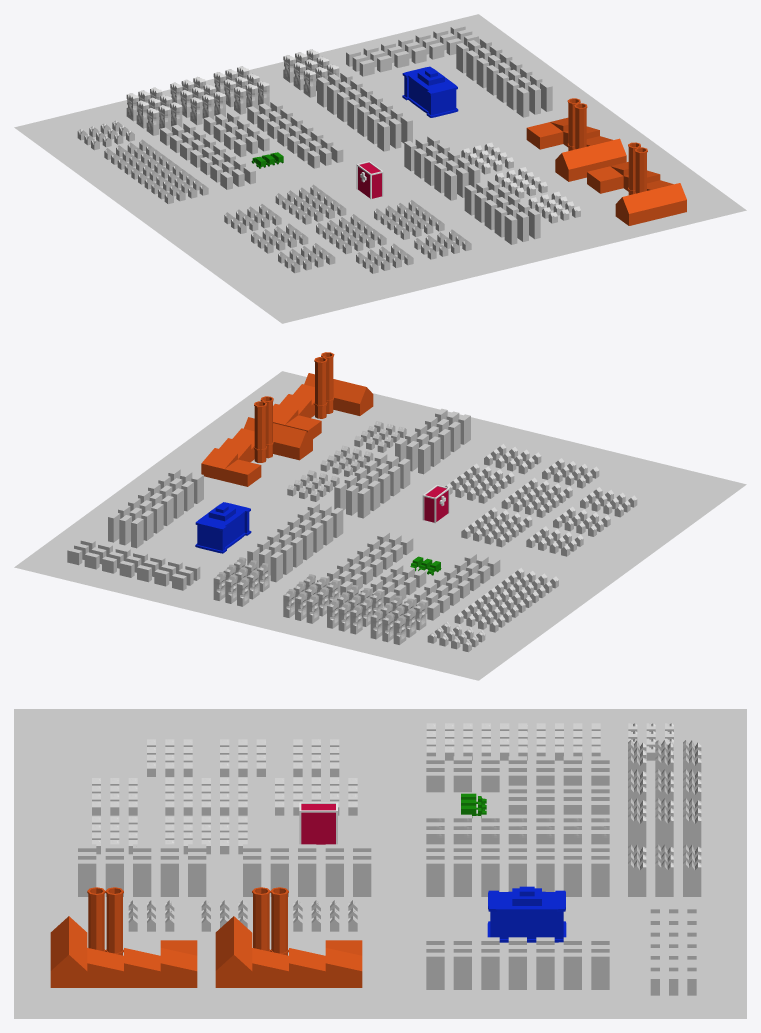
File: Diplom.fbx
3 views of the same model, one above another, from view 1: azimuth 30°, elevation 25°; view 2: azimuth 150°, elevation 25°; view 3: azimuth 270°, elevation 25° (orthographic). The views are drawn at different scales.
Parts seen in each view (by area): view 1: Plane, 9 Story Bulding Dead, Factory OK.001, 9 Story Bulding OK.003, Factory OK, 9 Story Bulding OK, 5 Story Bulding OK.003, 9 Story Bulding OK.002, 5 Story Bulding OK.002, 5 Story Bulding OK, 9 Story Bulding OK.001, Small Houses (+23 smaller); view 2: Plane, 9 Story Bulding Dead, Factory OK, Factory OK.001, 9 Story Bulding OK.003, 9 Story Bulding OK, 5 Story Bulding OK.003, 9 Story Bulding OK.002, 9 Story Bulding OK.001, 5 Story Bulding OK, 5 Story Bulding OK.002, BrokenSmallHouses (+21 smaller); view 3: Plane, Factory OK.001, Factory OK, 9 Story Bulding OK.003, 9 Story Bulding OK, 9 Story Bulding Dead, 9 Story Bulding OK.002, 9 Story Bulding OK.001, 5 Story Bulding OK, CityHall, Small Houses, 9 Story Bulding Dead.001 (+33 smaller).
Boxes of the visible parts, left/top/right/bottom form: Plane: left=14, top=14, right=746, bottom=323; 9 Story Bulding Dead: left=126, top=66, right=269, bottom=135; Factory OK.001: left=587, top=142, right=686, bottom=225; 9 Story Bulding OK.003: left=456, top=37, right=552, bottom=117; Factory OK: left=526, top=98, right=626, bottom=181; 9 Story Bulding OK: left=317, top=71, right=412, bottom=151; 5 Story Bulding OK.003: left=346, top=24, right=478, bottom=76; 9 Story Bulding OK.002: left=464, top=179, right=540, bottom=244; 5 Story Bulding OK.002: left=247, top=100, right=343, bottom=168; 5 Story Bulding OK: left=160, top=122, right=255, bottom=189; 9 Story Bulding OK.001: left=404, top=135, right=480, bottom=200; Small Houses: left=104, top=139, right=208, bottom=204; Plane: left=14, top=371, right=746, bottom=680; 9 Story Bulding Dead: left=283, top=574, right=426, bottom=644; Factory OK: left=201, top=396, right=312, bottom=486; Factory OK.001: left=273, top=352, right=373, bottom=438; 9 Story Bulding OK.003: left=108, top=468, right=203, bottom=548; 9 Story Bulding OK: left=247, top=502, right=343, bottom=582; 5 Story Bulding OK.003: left=67, top=538, right=200, bottom=590; 9 Story Bulding OK.002: left=395, top=408, right=470, bottom=474; 9 Story Bulding OK.001: left=334, top=453, right=410, bottom=518; 5 Story Bulding OK: left=404, top=553, right=500, bottom=620; 5 Story Bulding OK.002: left=317, top=532, right=413, bottom=594; BrokenSmallHouses: left=454, top=568, right=558, bottom=632; Plane: left=14, top=709, right=746, bottom=1018; Factory OK.001: left=50, top=887, right=197, bottom=987; Factory OK: left=215, top=887, right=362, bottom=987; 9 Story Bulding OK.003: left=426, top=937, right=609, bottom=989; 9 Story Bulding OK: left=426, top=844, right=609, bottom=896; 9 Story Bulding Dead: left=628, top=740, right=701, bottom=850; 9 Story Bulding OK.002: left=78, top=844, right=206, bottom=896; 9 Story Bulding OK.001: left=243, top=844, right=371, bottom=896; 5 Story Bulding OK: left=426, top=756, right=609, bottom=792; CityHall: left=487, top=886, right=566, bottom=942; Small Houses: left=426, top=723, right=600, bottom=760; 9 Story Bulding Dead.001: left=628, top=844, right=701, bottom=896.
Size of what is drawn, in the model's own units: 4000 by 466 by 4000.
